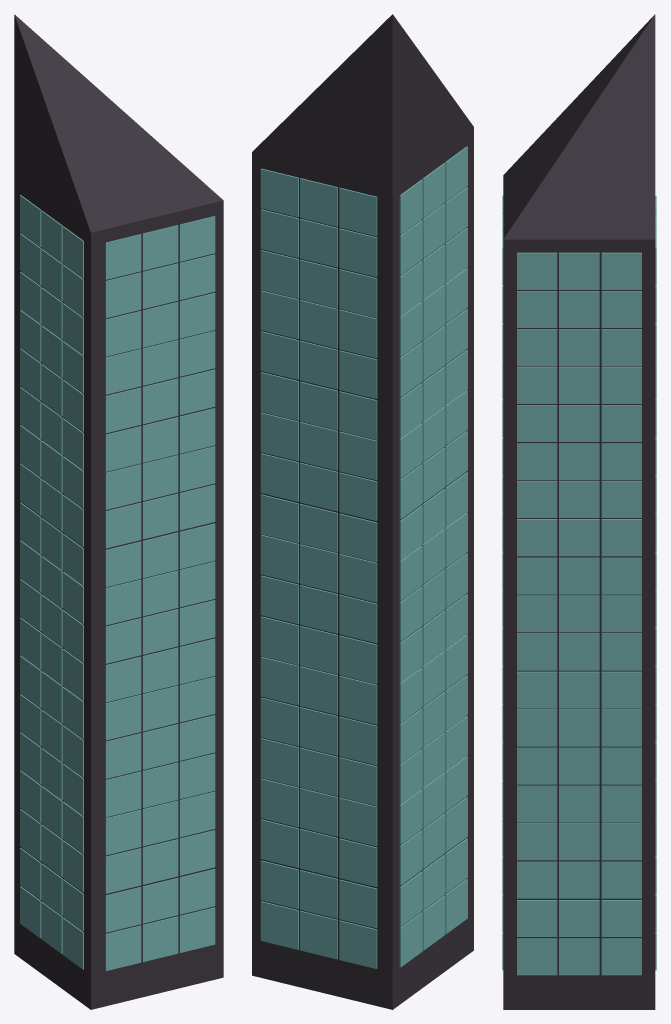
The model's file is tower2.fbx.
3 renders of one model, left to right at view 1: azimuth 30°, elevation 25°; view 2: azimuth 150°, elevation 25°; view 3: azimuth 270°, elevation 25°, orthographic. The views are drawn at different scales.
Parts seen in each view (by area): view 1: Cube.001, Cube; view 2: Cube.001, Cube; view 3: Cube.001, Cube.
Boxes of the visible parts, x1,y1,x2,y2 form: Cube.001: (20,195,215,970); Cube: (14,14,223,1009); Cube.001: (260,146,467,968); Cube: (252,14,473,1009); Cube.001: (502,195,656,975); Cube: (503,14,655,1009).
Bounding box in the file's own units: 238 × 1587 × 238.
